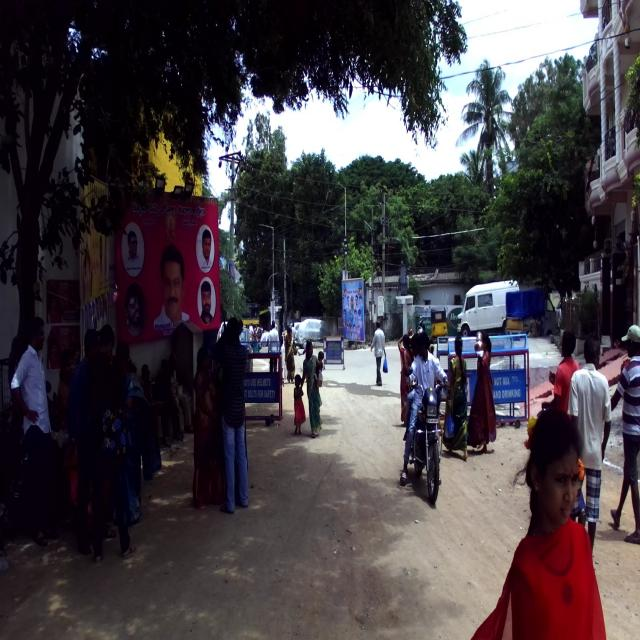Car: (295, 317, 329, 348)
autorickshaw: (429, 304, 446, 340)
mini-bus: (454, 278, 520, 338)
motorcycle_Hero: (404, 366, 450, 504)
scooter: (9, 381, 70, 528)
truck: (504, 286, 554, 342)
